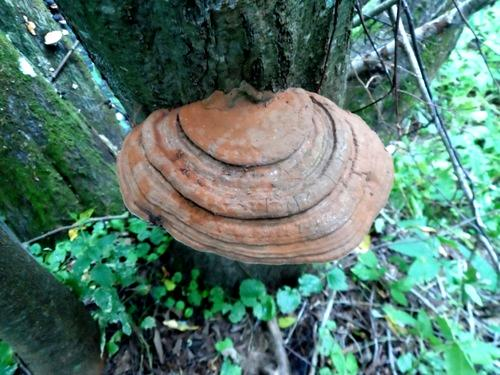Ganoderma - Fruit Body: (114, 83, 396, 265)
